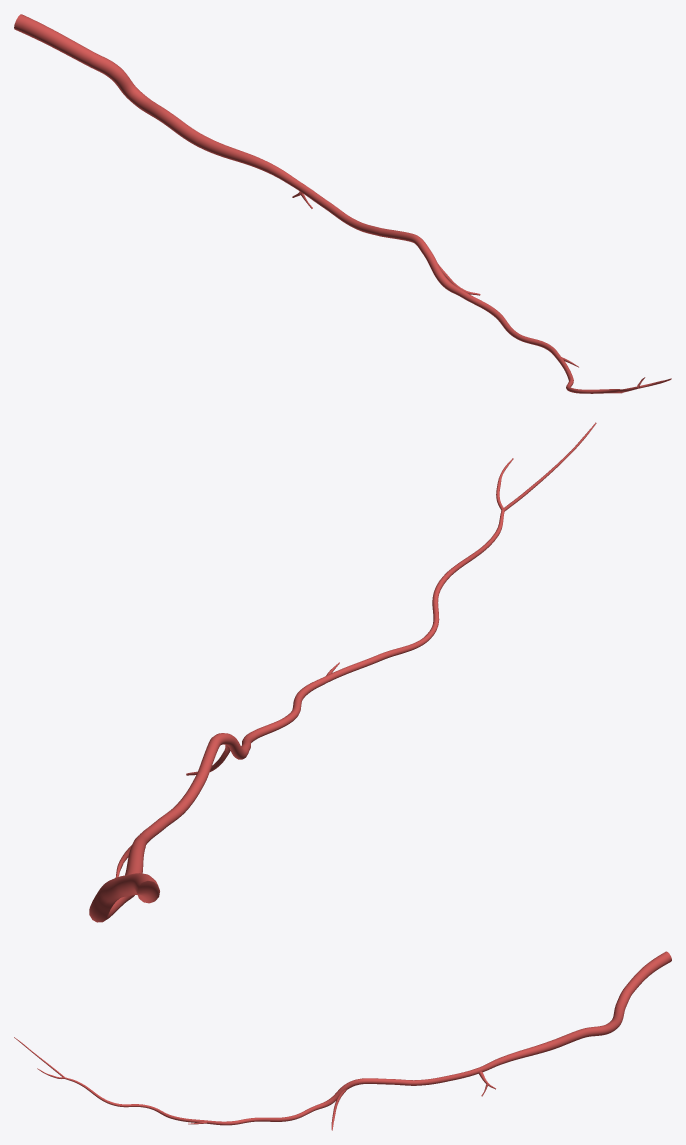
3 views of the same model, one above another, from view 1: azimuth 30°, elevation 25°; view 2: azimuth 150°, elevation 25°; view 3: azimuth 270°, elevation 25° (orthographic). The views are drawn at different scales.
Parts seen in each view (by area): view 1: 右侧内眦动脉; view 2: 右侧内眦动脉; view 3: 右侧内眦动脉.
Boxes of the visible parts, bbox=[...] form: 右侧内眦动脉: bbox=[14, 14, 671, 393]; 右侧内眦动脉: bbox=[89, 422, 596, 922]; 右侧内眦动脉: bbox=[14, 951, 671, 1130].
Bounding box in the file's own units: 0.0448 × 0.0297 × 0.1665.
